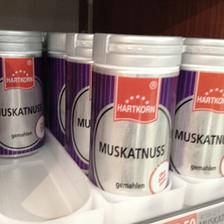Gewuerze: (86, 31, 184, 193), (0, 29, 44, 158)
